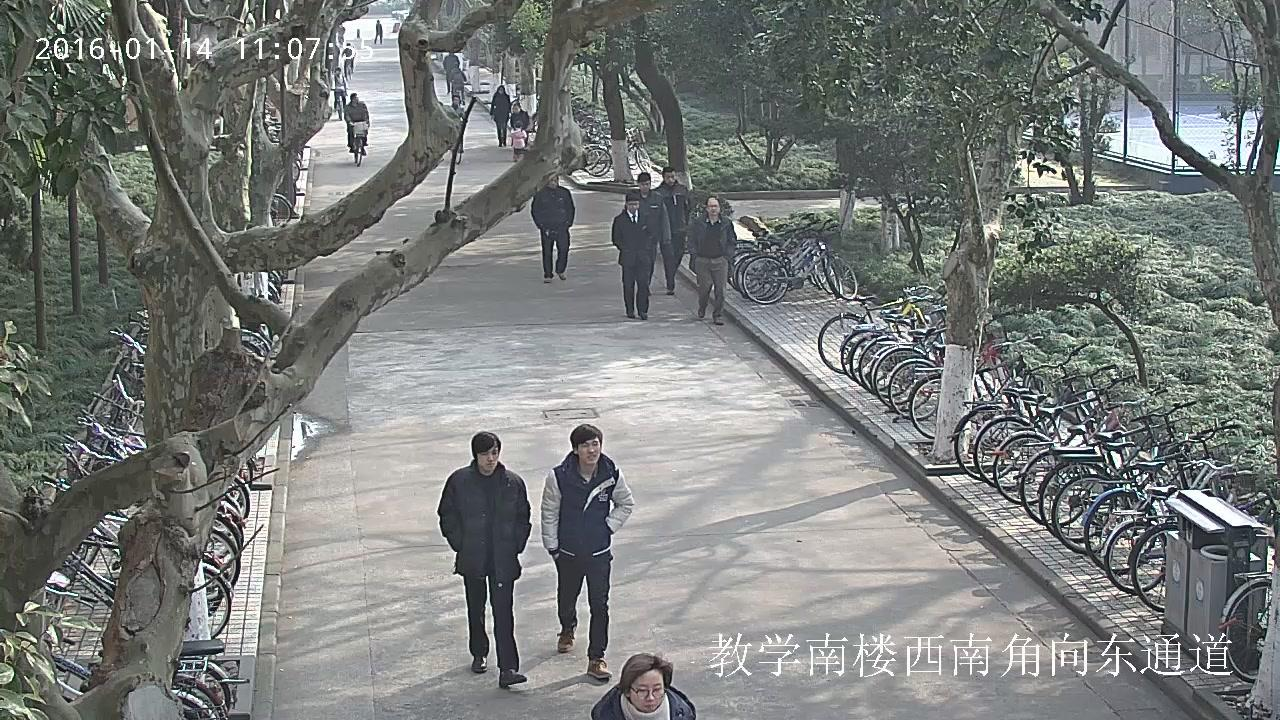person: (438, 431, 531, 687), (542, 424, 634, 679), (591, 654, 697, 719), (688, 196, 736, 325), (612, 189, 655, 320), (531, 176, 574, 283), (653, 166, 689, 293), (636, 173, 671, 294), (344, 92, 369, 166), (344, 92, 369, 155), (445, 95, 466, 163), (490, 85, 511, 147), (444, 95, 466, 152), (331, 67, 348, 121), (442, 51, 460, 93), (331, 67, 348, 110), (449, 63, 466, 105), (510, 119, 527, 157), (449, 64, 466, 102), (510, 102, 529, 130), (342, 41, 354, 79), (342, 41, 354, 74), (374, 19, 382, 44)
